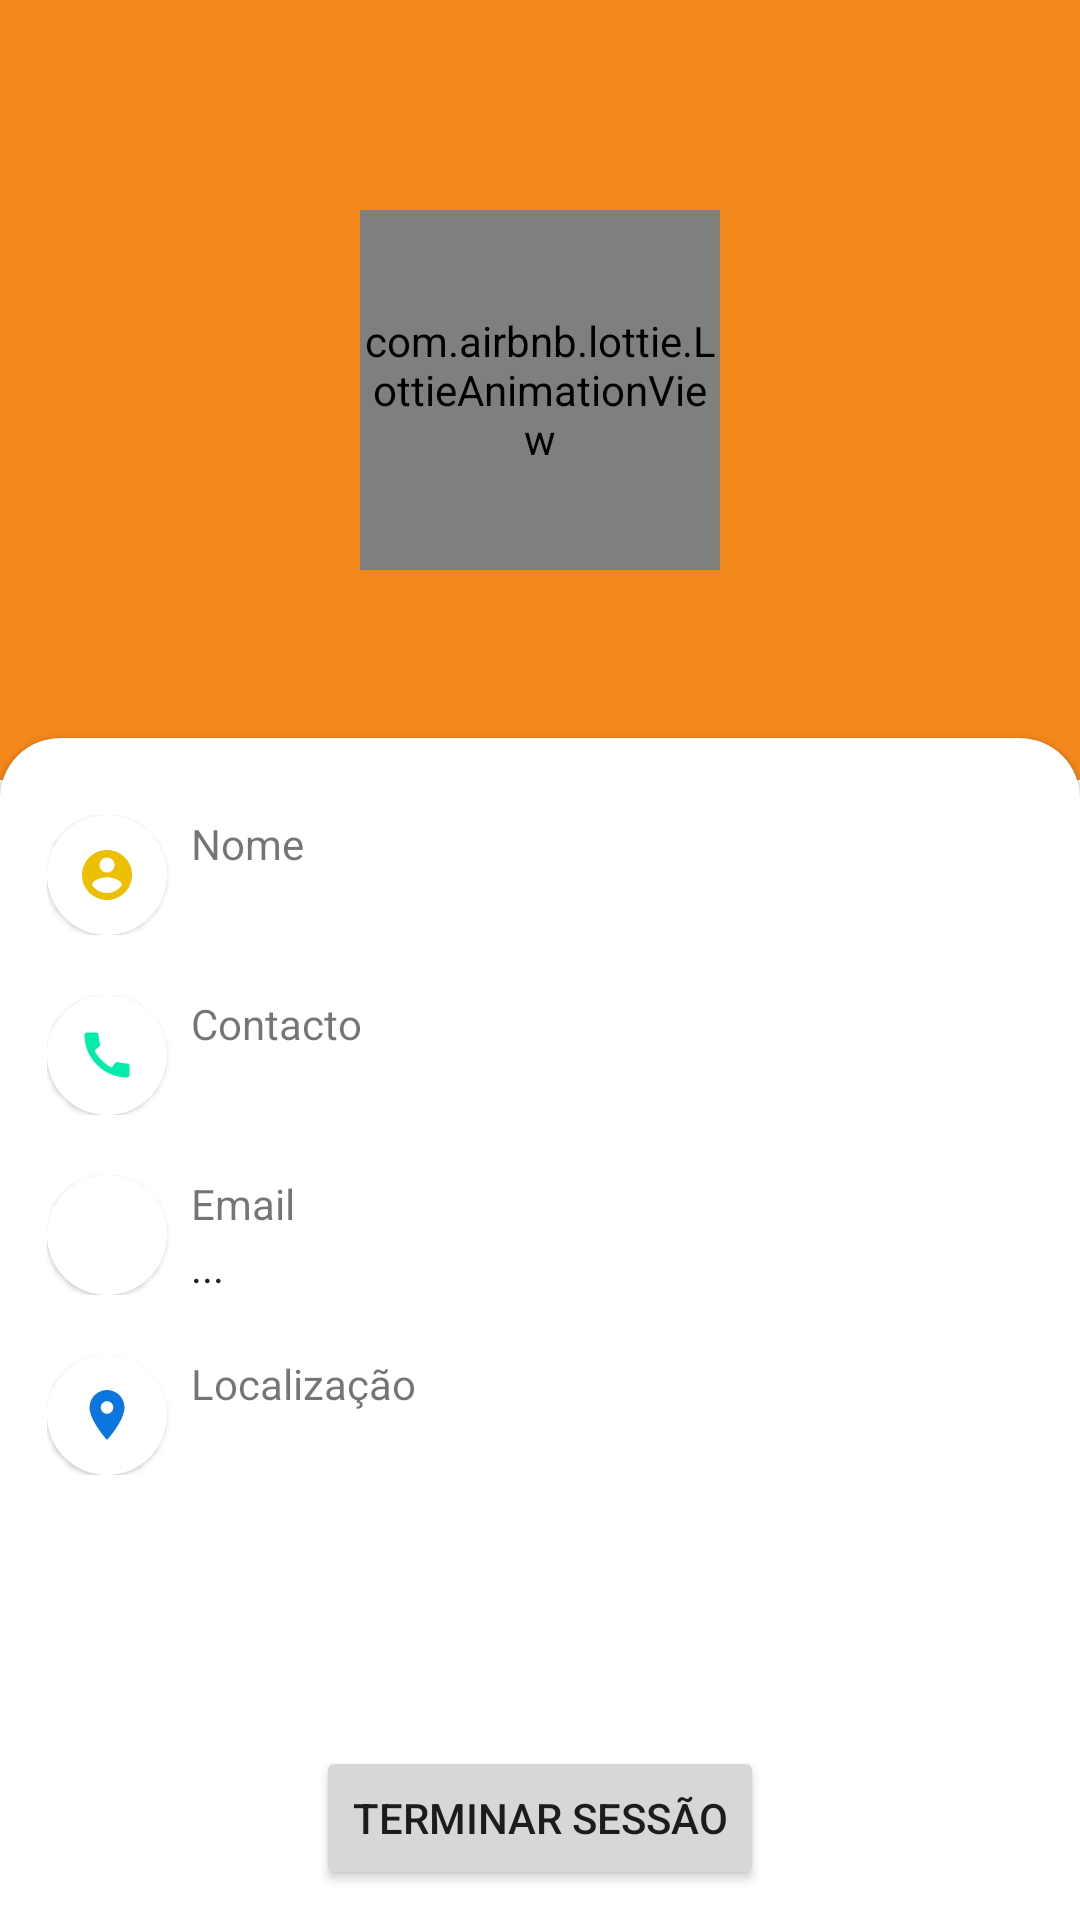

Locate icon controls on the screen. Image size 1080px x 1920px, boxes as rect(x1, y1, x2, y2).
account circle: rect(47, 850, 142, 935)
call: rect(47, 1032, 157, 1115)
location on: rect(47, 1390, 158, 1475)
